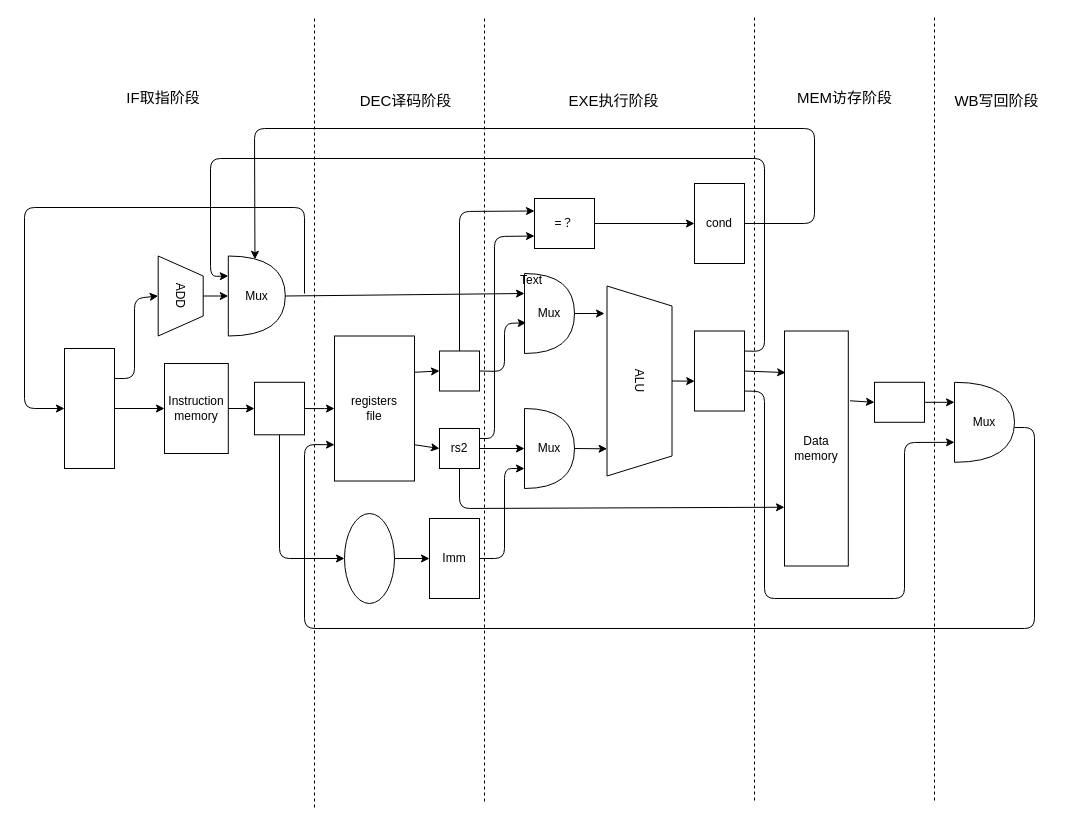
Image size: 1065x827. Some labels were removed from this diagram. Here are the shapes that lost their labels. From the top down, the box of each, then its label:
(438, 350, 480, 391): rs1
(694, 330, 744, 411): ALU Res
(64, 348, 114, 468): PC
(254, 381, 304, 435): inst
(874, 381, 924, 422): Data
(344, 512, 394, 604): Sign extend
